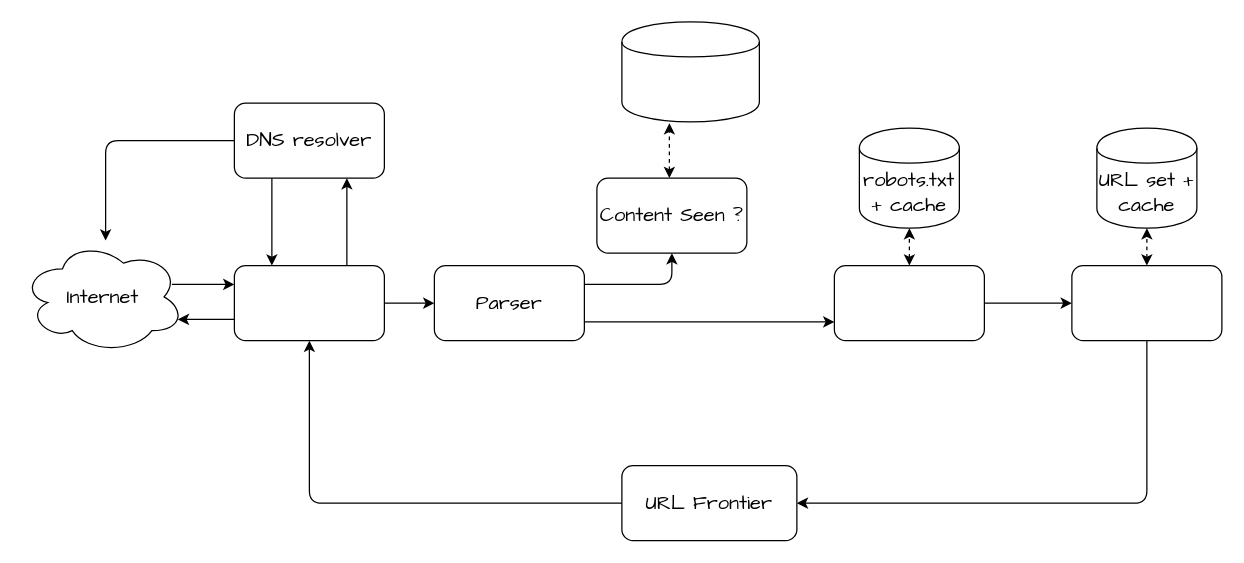
The diagram is 1244 pixels wide and 563 high, and some of its shapes have lost their labels. Here are the shapes that lost their labels. From the top down, the box of each, then its label:
(621, 21, 759, 122): Doc fingerprints DB
(233, 264, 384, 341): Fetcher
(833, 264, 984, 341): URL filter
(1071, 264, 1222, 341): Duplicate URL eliminator
